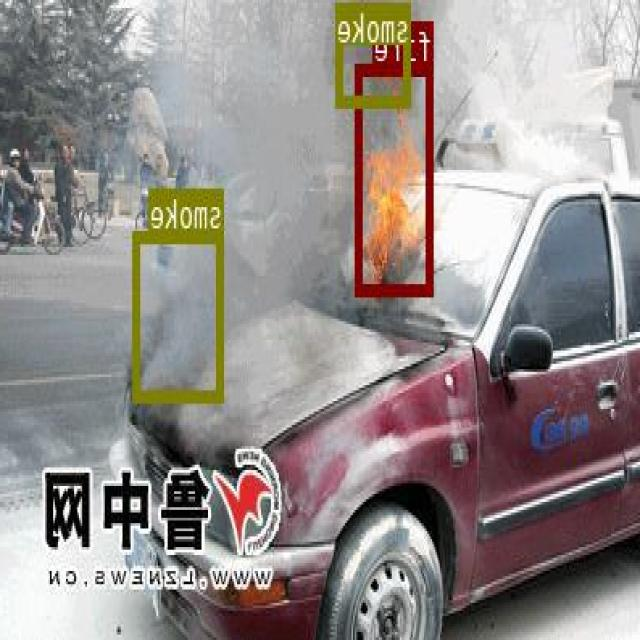fire: (356, 61, 434, 293)
smoke: (134, 230, 225, 401), (338, 2, 412, 104)
